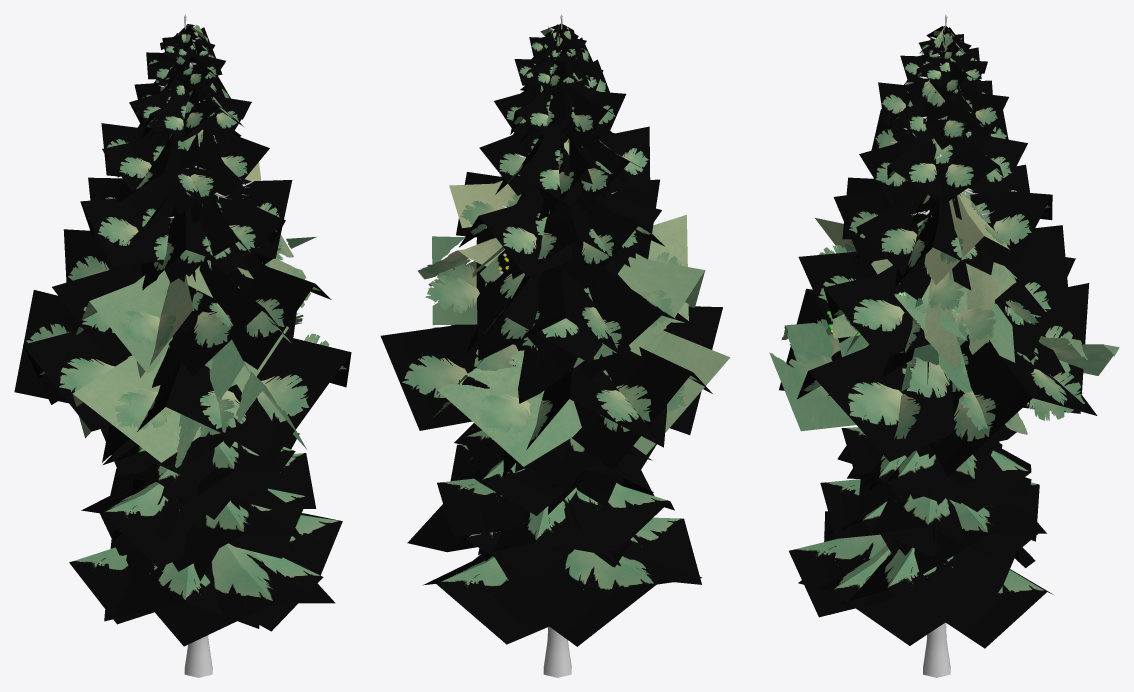
Rendered from tree2.fbx.
3 renders of one model, left to right at view 1: azimuth 30°, elevation 25°; view 2: azimuth 150°, elevation 25°; view 3: azimuth 270°, elevation 25°, orthographic.
Parts seen in each view (by area): view 1: Leaves.001, Untitled_Artwork (86).009, Leaves, tree; view 2: Leaves.001, Untitled_Artwork (86).009, Leaves, tree; view 3: Leaves.001, Untitled_Artwork (86).009, Leaves, tree.
Part boxes in pixels (bbox=[...]): Leaves.001: bbox=[14, 24, 351, 467]; Untitled_Artwork (86).009: bbox=[69, 426, 342, 646]; Leaves: bbox=[26, 25, 346, 436]; tree: bbox=[184, 635, 212, 677]; Leaves.001: bbox=[380, 23, 730, 476]; Untitled_Artwork (86).009: bbox=[407, 423, 701, 646]; Leaves: bbox=[402, 27, 699, 440]; tree: bbox=[543, 626, 571, 677]; Leaves.001: bbox=[769, 25, 1119, 476]; Untitled_Artwork (86).009: bbox=[789, 424, 1053, 648]; Leaves: bbox=[782, 30, 1105, 441]; tree: bbox=[923, 622, 950, 677].
Size of the model in its own units: 3496 by 7189 by 3597.
